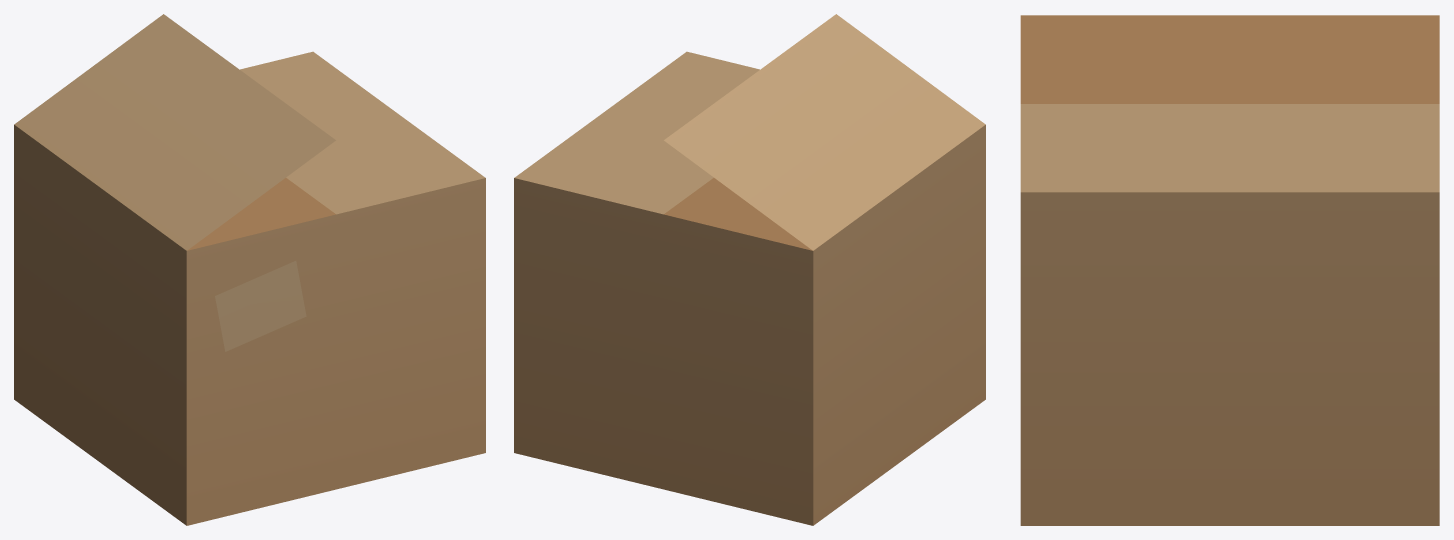
Rendered from city-box-b.glb.
The picture shows the model from 3 angles, left to right: view 1: azimuth 30°, elevation 25°; view 2: azimuth 150°, elevation 25°; view 3: azimuth 270°, elevation 25°; orthographic projection. The views are drawn at different scales.
Parts seen in each view (by area): view 1: box_B; view 2: box_B; view 3: box_B.
Boxes of the visible parts, bbox=[...] form: box_B: bbox=[14, 14, 485, 525]; box_B: bbox=[514, 14, 985, 525]; box_B: bbox=[1020, 15, 1439, 525].
Size of the model in its own units: 0.1521 by 0.1696 by 0.1544.
